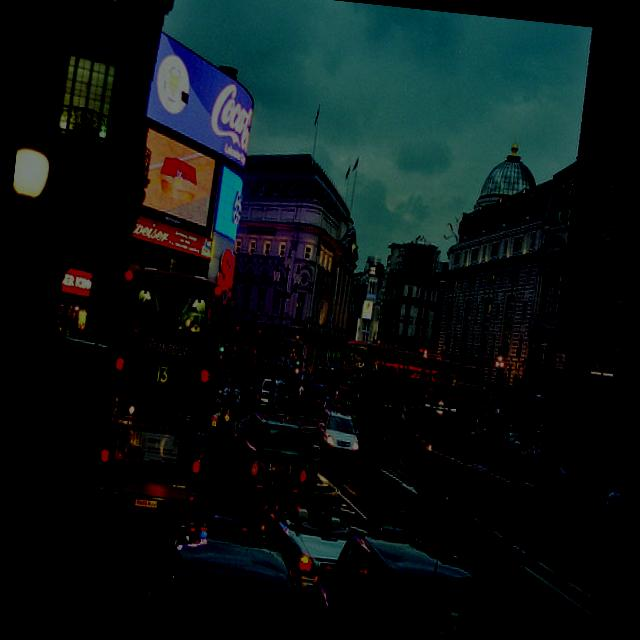Vehicle: (89, 261, 223, 527), (303, 516, 512, 640), (134, 504, 312, 640), (331, 338, 485, 465), (252, 492, 356, 598), (224, 406, 314, 516), (226, 324, 302, 394), (311, 408, 363, 470), (258, 376, 290, 412), (490, 420, 522, 446), (231, 388, 249, 420), (308, 382, 322, 410)
